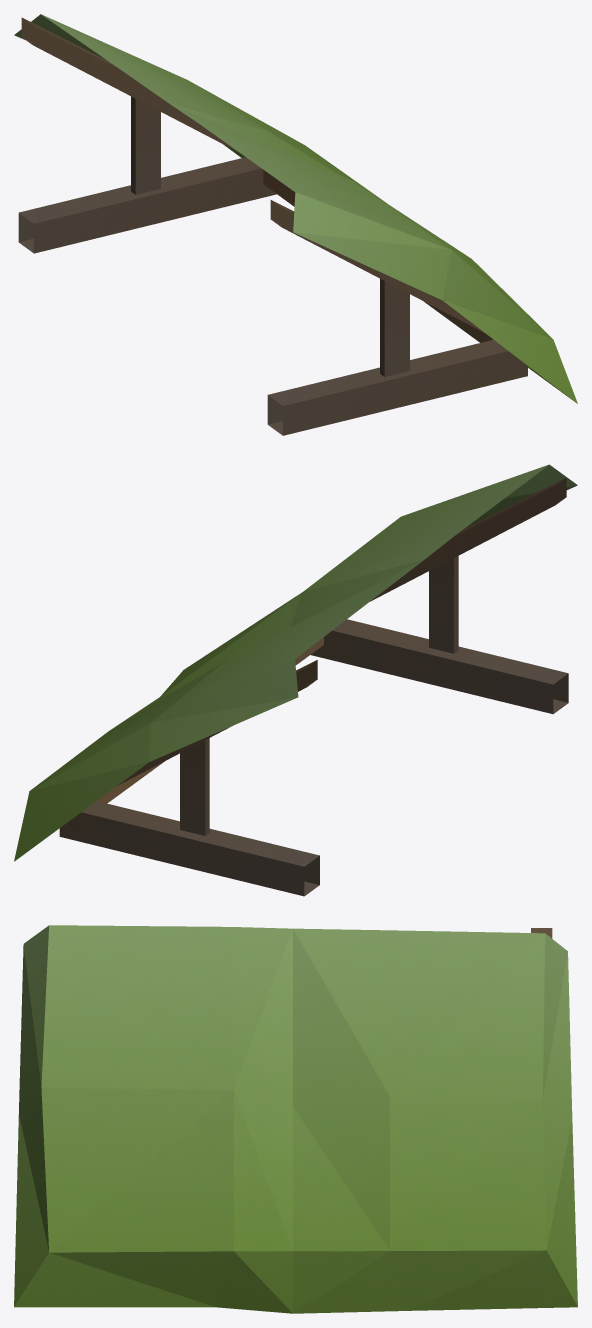
Rendered from Shed_5B.fbx.
3 views of the same model, one above another, from view 1: azimuth 30°, elevation 25°; view 2: azimuth 150°, elevation 25°; view 3: azimuth 270°, elevation 25° (orthographic). The views are drawn at different scales.
Visible parts, largest first — view 1: polySurface9873; view 2: polySurface9873; view 3: polySurface9873.
Part boxes in pixels (x1,y1,x2,y2): polySurface9873: (14, 14, 577, 435); polySurface9873: (14, 464, 577, 896); polySurface9873: (14, 925, 577, 1313).
Bounding box in the file's own units: 174 × 152 × 300.
